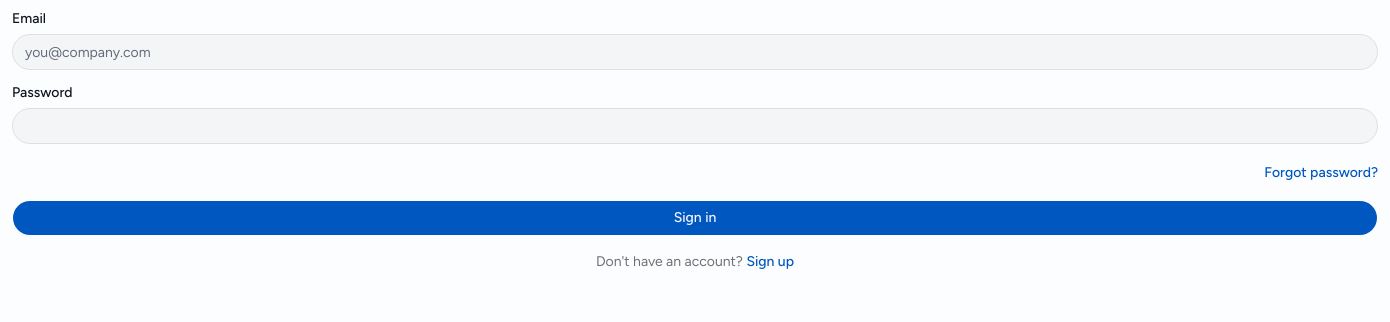
Test: SignInForm › surfaces a root error returned by the action
The image size is (1390, 322).
In the field labelled "Email": (695, 52) [12,34,1378,70], type "user@example.com"
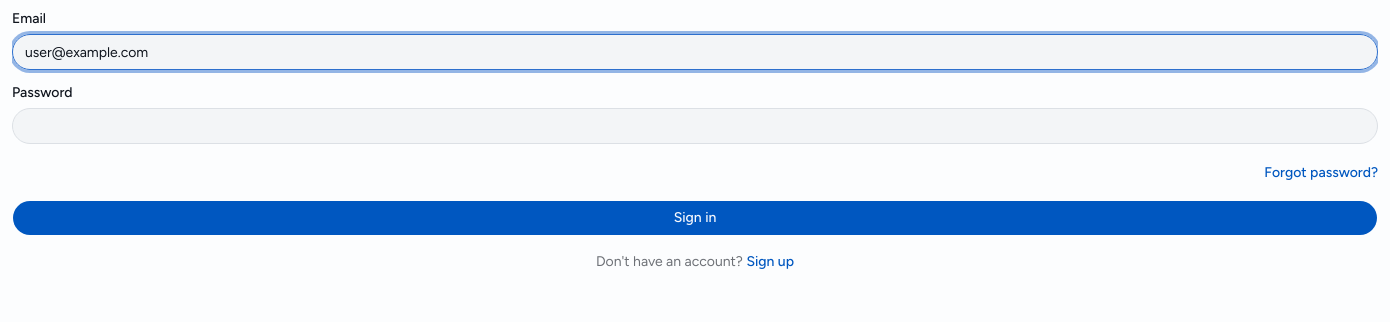
In the password field labelled "Password": (695, 126) [12,108,1378,144], type "secret"
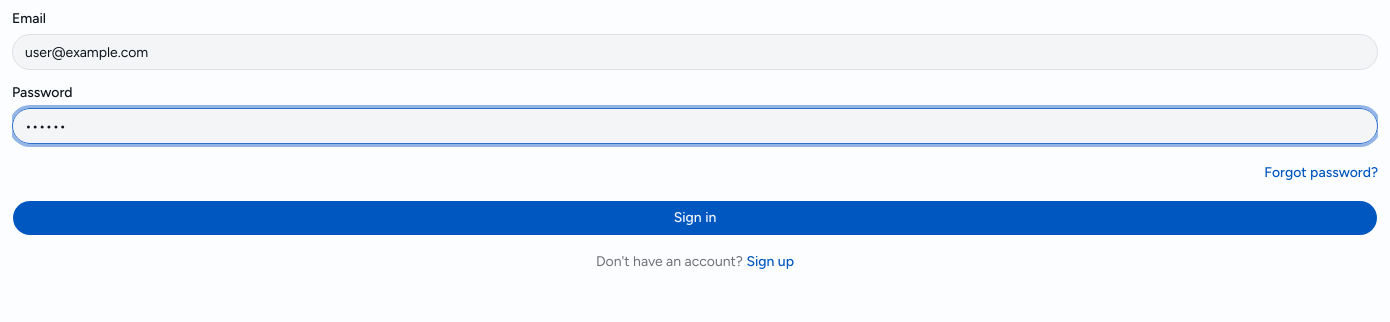
Click the submit button: (695, 218) [12,200,1378,236]
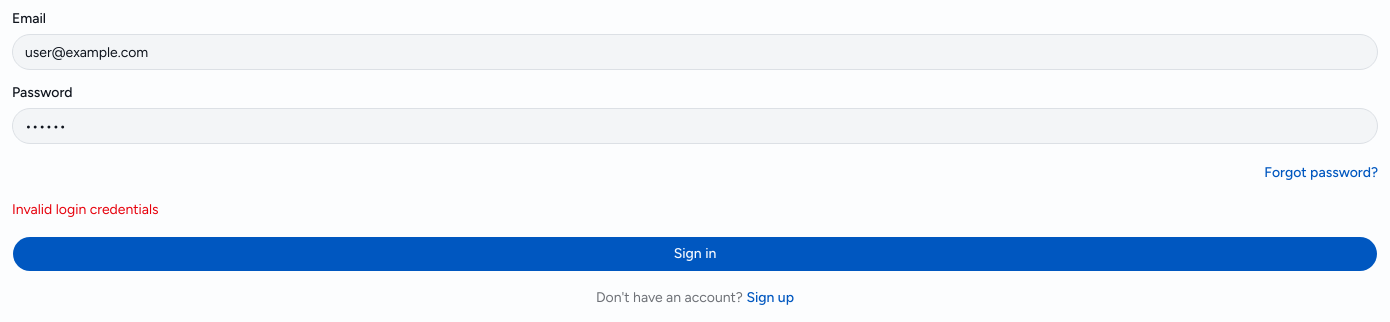
Result: the message reads "Invalid login credentials" at [12,201,159,218]
